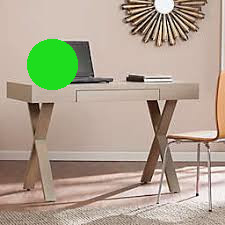focus: (24, 39, 87, 96)
